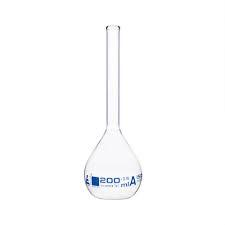Volumetric flask: (74, 20, 154, 203)
